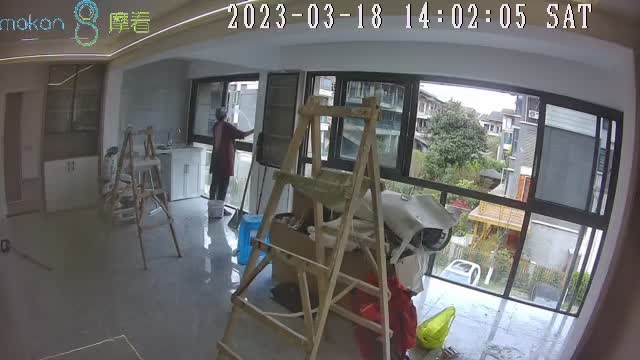people: (206, 107, 251, 215)
window: (310, 76, 599, 300), (187, 77, 259, 214)
